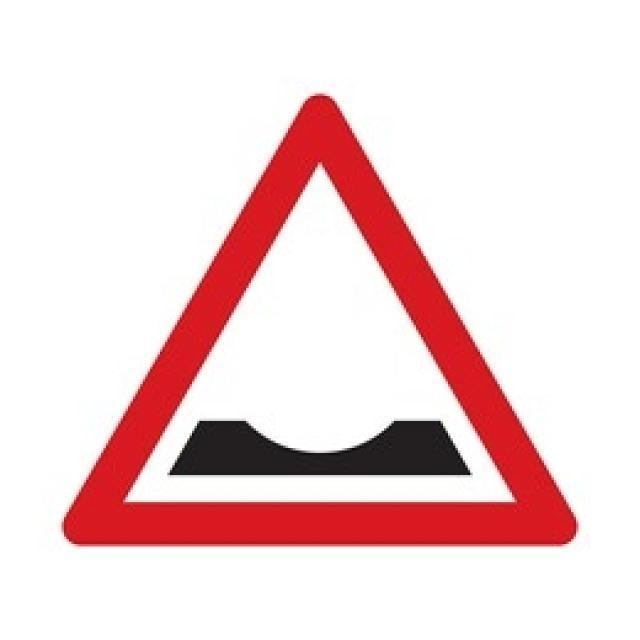dangerous dip: (57, 92, 580, 553)
